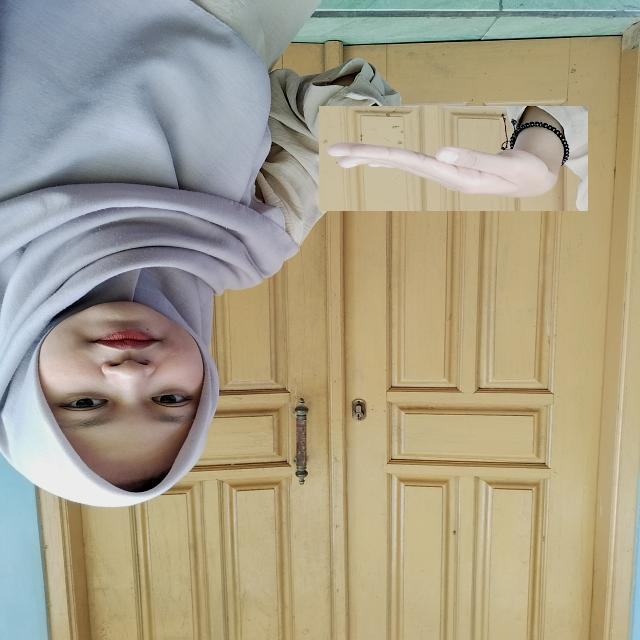adik: (319, 106, 588, 211)
